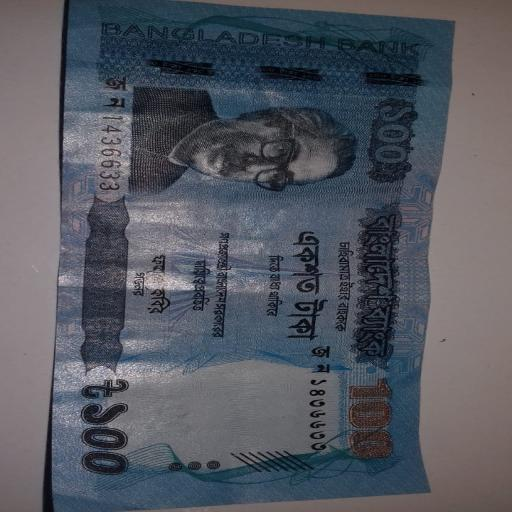100taka: (58, 0, 445, 510)
